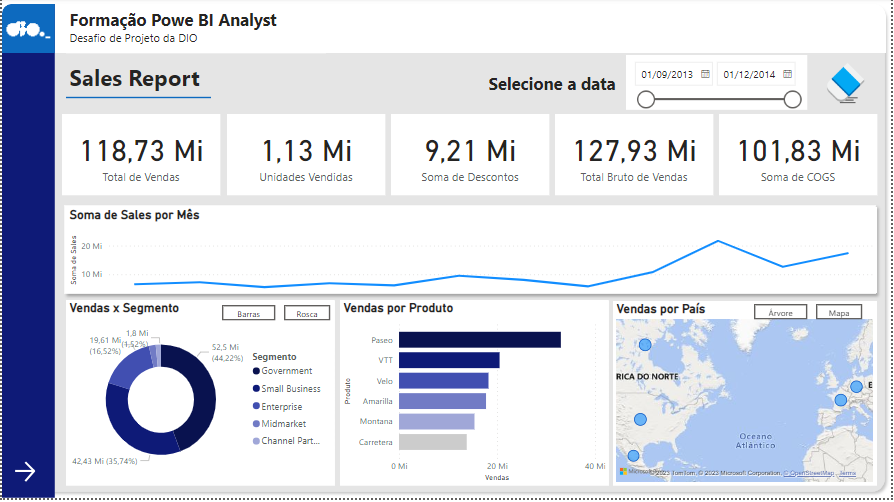

This screenshot's page, from the dashboard's own definition file:
{"tool":"powerbi","page":{"name":"Página 1","canvas":[1280,720],"ordinal":0},"visuals":[{"type":"shape","box":[0,0,1280.2,720],"z":0},{"type":"image","title":"Borracha","box":[1180.8,86.4,67.7,70.6],"z":0,"group":"g1"},{"type":"shape","box":[92.2,129.6,208.8,27.4],"z":0,"group":"g5"},{"type":"shape","box":[86.4,166.6,227.5,116.6],"z":0,"group":"g2"},{"type":"shape","box":[0,8.6,76.3,711.4],"z":1000},{"type":"textbox","box":[92.2,86.4,208.8,57.6],"z":1000,"group":"g5"},{"type":"shape","box":[324.5,166.6,227.5,116.6],"z":1000,"group":"g2"},{"type":"donutChart","title":"Vendas x Segmento","fields":{"Category":["financials.Segment"],"Y":["Sum(financials. Sales)"]},"box":[92.2,435.2,387.4,266.2],"z":1000,"group":"g4"},{"type":"actionButton","title":"Botão Rosca","box":[406,441.8,66.6,22.2],"z":1250,"group":"g4"},{"type":"actionButton","title":"Botão Barras","box":[317.2,441.8,76.8,22.2],"z":1500,"group":"g4"},{"type":"shape","box":[0,8.6,76.3,70.6],"z":2000},{"type":"shape","box":[560.6,166.6,227.5,116.6],"z":2000,"group":"g2"},{"type":"map","fields":{"Category":["financials.Country"],"Size":["Sum(financials. Sales)"]},"box":[879.8,436.3,380.2,265],"z":2750,"group":"g3"},{"type":"image","box":[0,1.4,76.3,85],"z":3000},{"type":"textbox","box":[695.5,100.8,201.6,43.2],"z":3000,"group":"g1"},{"type":"shape","box":[796.8,166.6,227.5,116.6],"z":3000,"group":"g2"},{"type":"slicer","fields":{"Values":["financials.Date"]},"box":[898.5,82.1,260.6,79.2],"z":3250,"group":"g1"},{"type":"actionButton","box":[1180.8,86.4,67.7,74.9],"z":3500,"group":"g1"},{"type":"actionButton","title":"Botão Árvore","box":[1083.7,440.3,76.8,22.2],"z":3812,"group":"g3"},{"type":"actionButton","title":"Botão Mapa","box":[1172.4,440.3,66.6,22.2],"z":3875,"group":"g3"},{"type":"shape","box":[76.3,8.6,1196.6,70.6],"z":4000},{"type":"shape","box":[1033,166.6,227.5,116.6],"z":4000,"group":"g2"},{"type":"textbox","box":[92.2,8.6,374.4,70.6],"z":5000},{"type":"card","title":"Cartão Vendas","fields":{"Values":["Sum(financials. Sales)"]},"box":[86.4,167.1,227.5,116.6],"z":5000,"group":"g2"},{"type":"card","title":"Cartão Unidades","fields":{"Values":["Sum(financials.Units Sold)"]},"box":[324,167.1,227.5,116.6],"z":6000,"group":"g2"},{"type":"shape","box":[80.6,289.4,1186.6,145.4],"z":6000},{"type":"card","title":"Cartão Bruto","fields":{"Values":["Sum(financials.Gross Sales)"]},"box":[796.3,167.1,227.5,116.6],"z":7000,"group":"g2"},{"type":"shape","box":[92.2,436.3,387.4,266.4],"z":7000},{"type":"card","title":"Cartão COGS","fields":{"Values":["Sum(financials.COGS)"]},"box":[1032.5,167.1,227.5,116.6],"z":8000,"group":"g2"},{"type":"shape","box":[486.7,436.3,387.4,266.4],"z":8000},{"type":"card","title":"Cartão Descontos","fields":{"Values":["Sum(financials.Discounts)"]},"box":[560.2,167.1,227.5,116.6],"z":9000,"group":"g2"},{"type":"shape","box":[879.8,436.3,380.2,266.4],"z":9000},{"type":"lineChart","fields":{"Y":["Sum(financials. Sales)"],"Category":["financials.Date.Variation.Hierarquia de datas.Mês"]},"box":[92.2,301,1167.8,123.8],"z":10000},{"type":"clusteredBarChart","fields":{"Y":["Sum(financials. Sales)"],"Category":["financials.Product"]},"box":[486.7,434.9,387.4,266.4],"z":11000},{"type":"actionButton","title":"Seta prox. pagina","box":[13.7,662.2,44.4,39.3],"z":12000},{"type":"group","id":"g1","title":"Filtro por data","box":[695.5,82.1,553,79.2],"z":14000},{"type":"group","id":"g2","title":"Cartoes","box":[86.4,166.6,1174.1,117.1],"z":15000},{"type":"group","id":"g3","title":"Vendas por país","box":[878.9,435.2,381.1,266.1],"z":16000},{"type":"group","id":"g4","title":"Vendas por segmento","box":[92.2,435.2,387.4,267.5],"z":17000},{"type":"group","id":"g5","title":"Título Sales Report","box":[92.2,86.4,208.8,70.6],"z":18000}]}

Visuals, with their boxes in screenshot pixels (x1, y1, x2, y2), scaled from the page's 1280x720 canvas onto the 894x502 screenshot:
shape: 0,0,893,501
"Borracha" image: 825,60,872,109
shape: 64,90,210,109
shape: 60,116,219,197
shape: 0,6,53,501
textbox: 64,60,210,100
shape: 227,116,386,197
"Vendas x Segmento" donutChart: 64,303,335,489
"Botão Rosca" actionButton: 284,308,330,324
"Botão Barras" actionButton: 222,308,275,324
shape: 0,6,53,55
shape: 392,116,550,197
map - financials.Country x Sum(financials. Sales): 614,304,880,489
image: 0,1,53,60
textbox: 486,70,627,100
shape: 557,116,715,197
slicer - financials.Date: 628,57,810,112
actionButton: 825,60,872,112
"Botão Árvore" actionButton: 757,307,811,322
"Botão Mapa" actionButton: 819,307,865,322
shape: 53,6,889,55
shape: 721,116,880,197
textbox: 64,6,326,55
"Cartão Vendas" card: 60,117,219,198
"Cartão Unidades" card: 226,117,385,198
shape: 56,202,885,303
"Cartão Bruto" card: 556,117,715,198
shape: 64,304,335,490
"Cartão COGS" card: 721,117,880,198
shape: 340,304,611,490
"Cartão Descontos" card: 391,117,550,198
shape: 614,304,880,490
lineChart - Sum(financials. Sales) x financials.Date.Variation.Hierarquia de datas.Mês: 64,210,880,296
clusteredBarChart - Sum(financials. Sales) x financials.Product: 340,303,611,489
"Seta prox. pagina" actionButton: 10,462,41,489
"Filtro por data" group: 486,57,872,112
"Cartoes" group: 60,116,880,198
"Vendas por país" group: 614,303,880,489
"Vendas por segmento" group: 64,303,335,490
"Título Sales Report" group: 64,60,210,109
